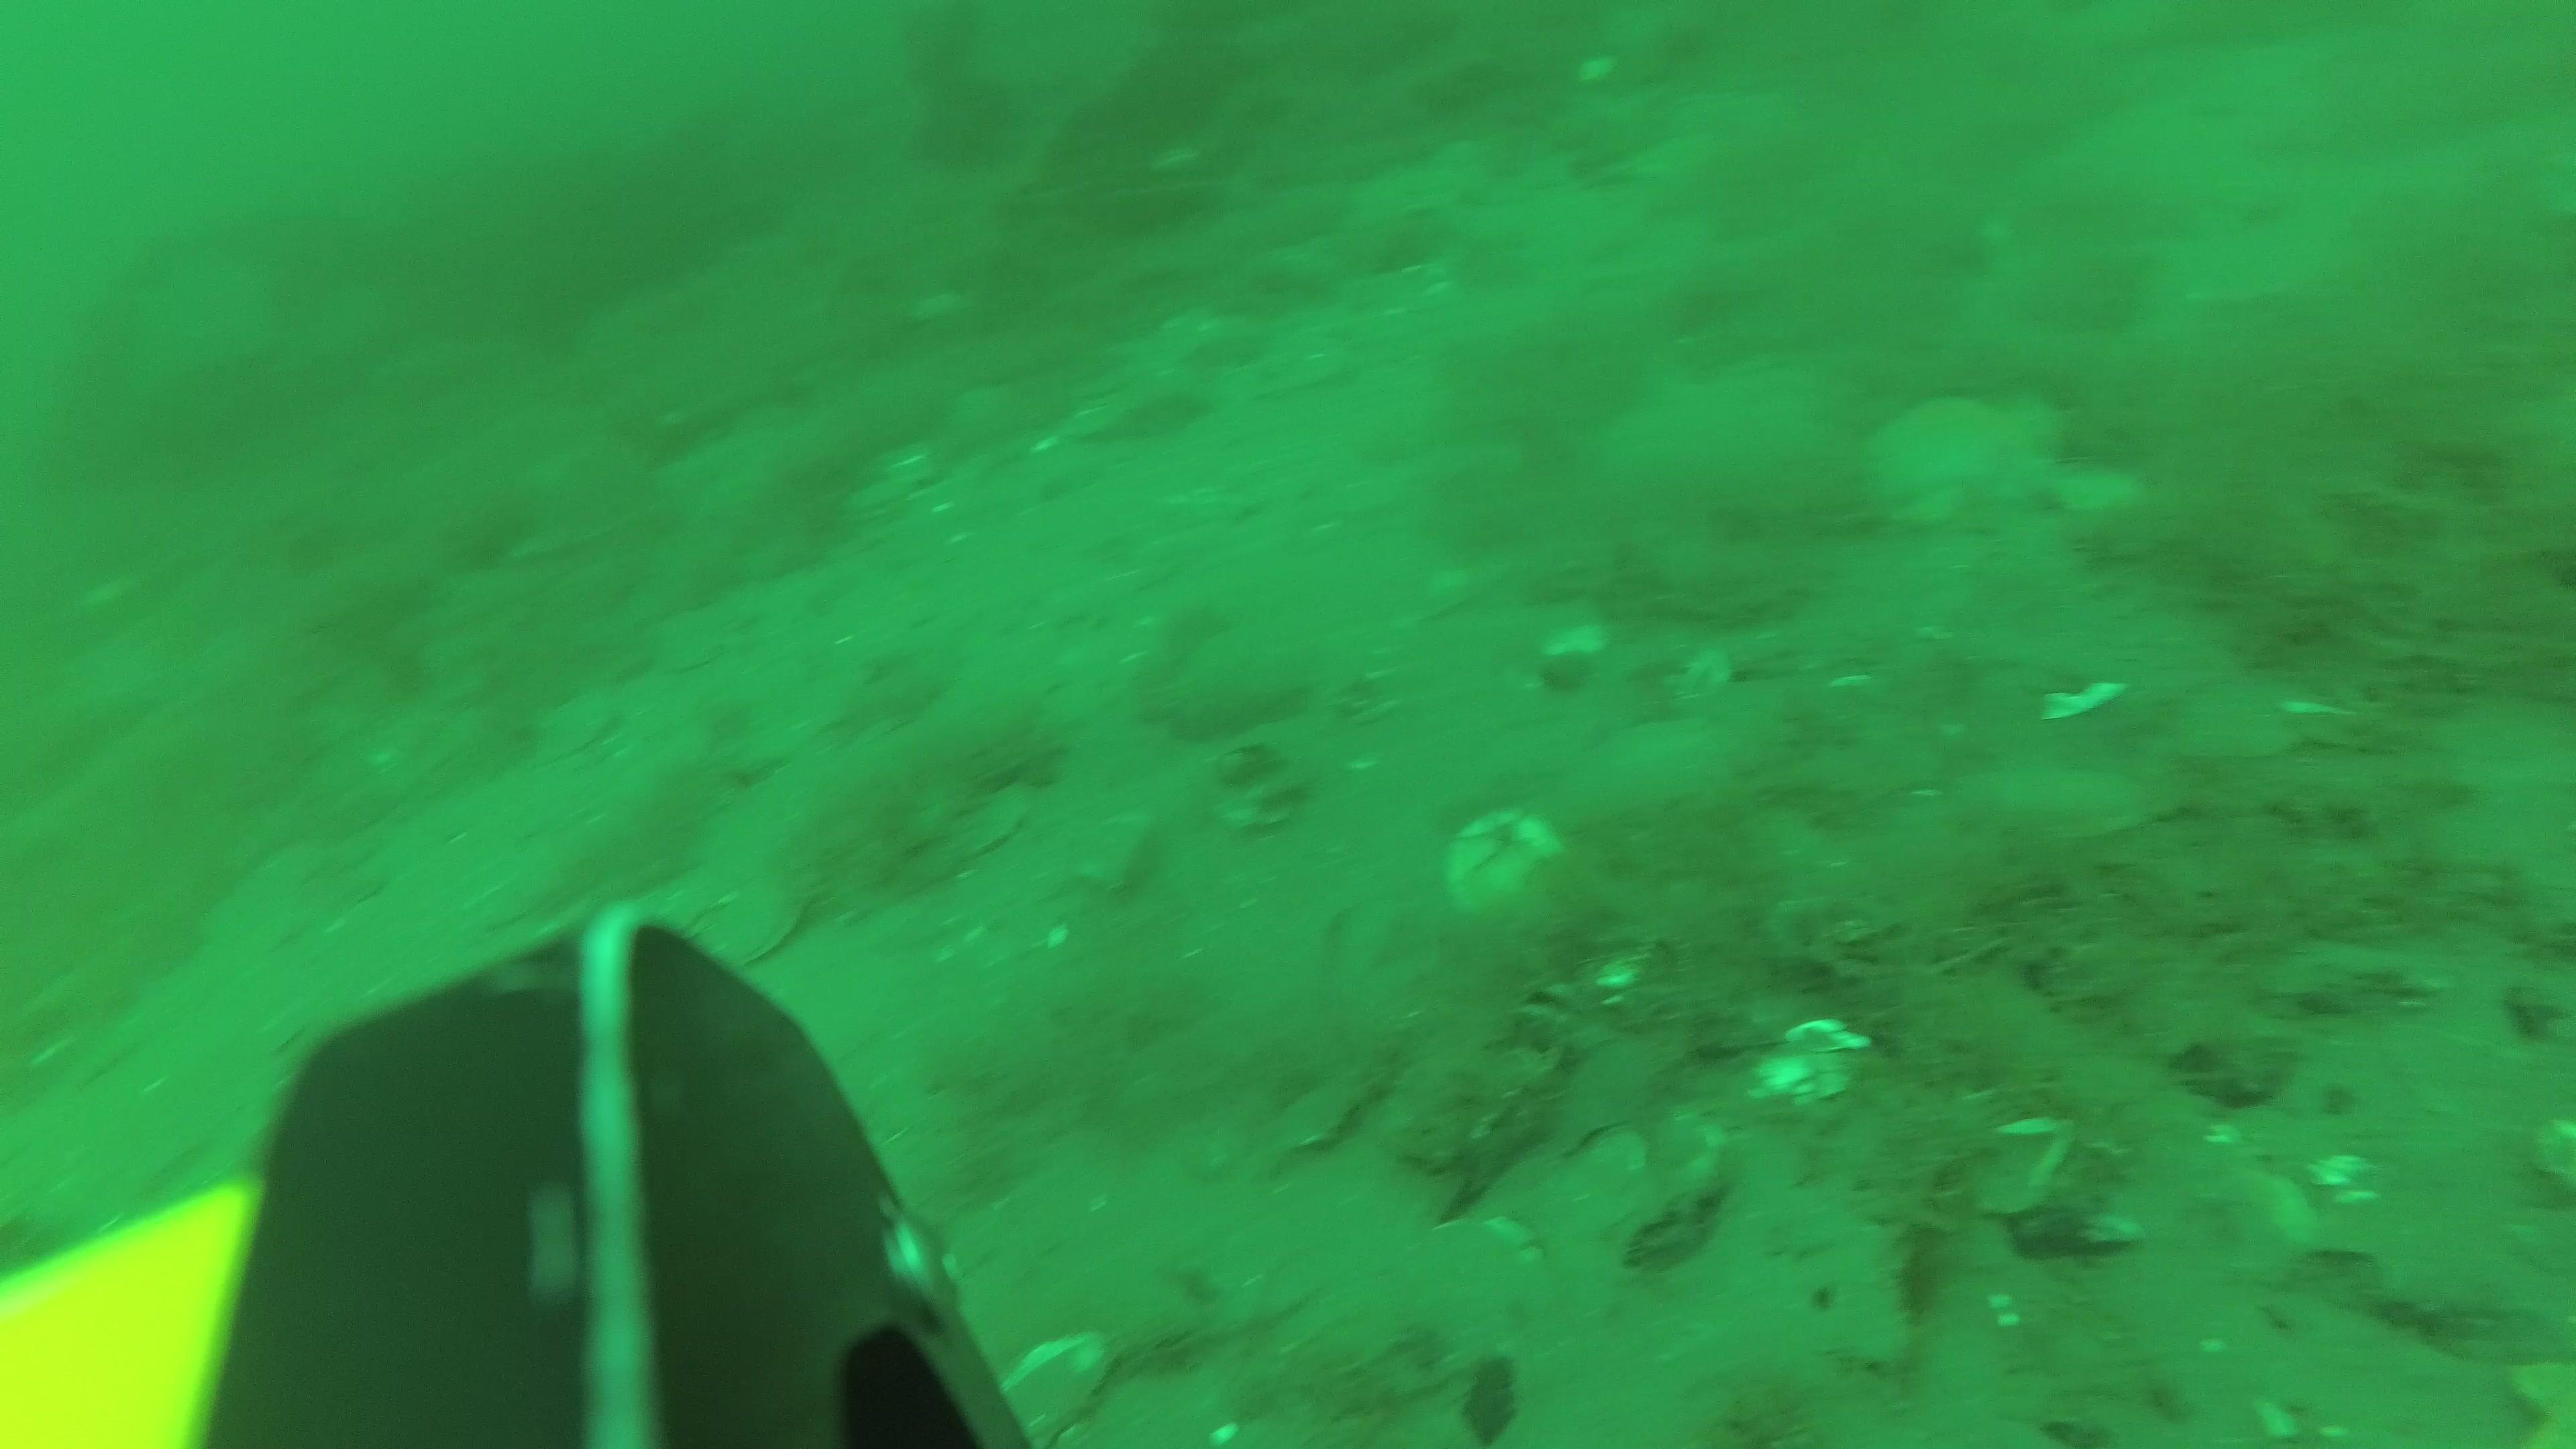scallop: (991, 1322, 1108, 1442), (1445, 812, 1568, 922), (701, 879, 796, 964), (844, 481, 911, 525)
starfish: (1849, 386, 2070, 518)
